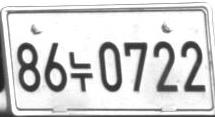0: (98, 40, 122, 92)
2: (180, 40, 206, 93), (152, 40, 178, 92)
6: (43, 42, 68, 92)
7: (123, 41, 148, 92)
8: (15, 41, 41, 92)
누: (68, 50, 93, 92)
